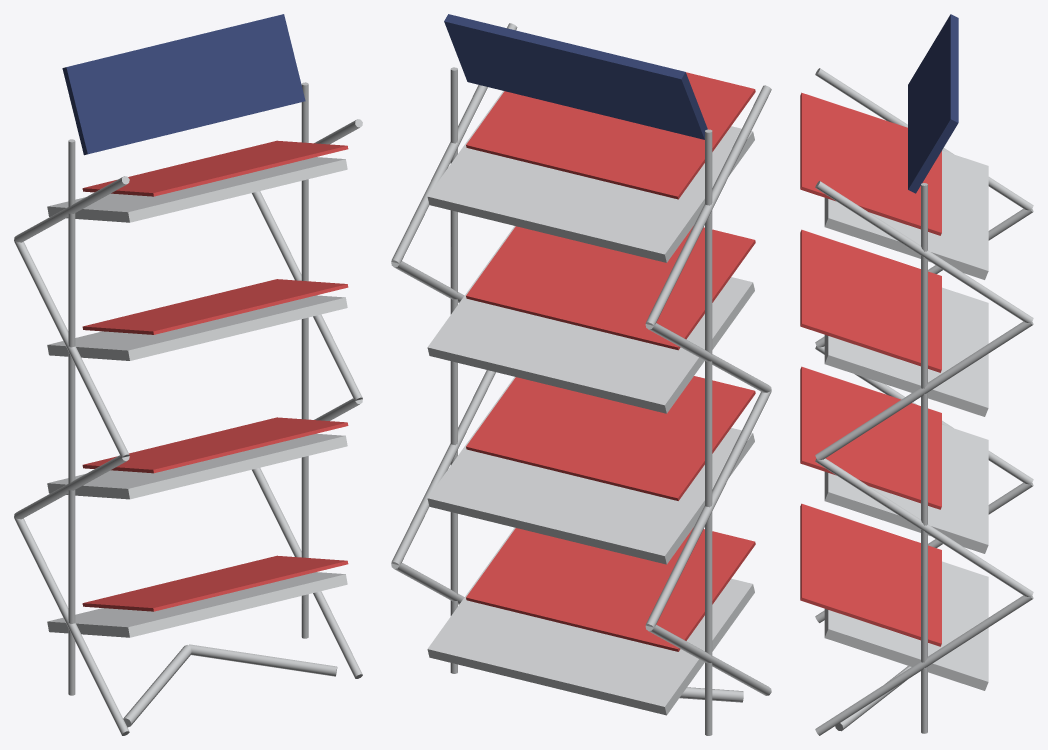
The model's file is brochure-rack-413.glb.
3 views of the same model, side by side, from view 1: azimuth 30°, elevation 25°; view 2: azimuth 150°, elevation 25°; view 3: azimuth 270°, elevation 25° (orthographic). The views are drawn at different scales.
Parts seen in each view (by area): view 1: header_sign, pocket_1, pocket_3, pocket_4, pocket_2, brochure_3, brochure_1, brochure_4, brochure_2, rail_0, rail_1, lattice_0_0 (+7 smaller); view 2: brochure_2, brochure_3, brochure_1, pocket_1, pocket_3, pocket_2, pocket_4, brochure_4, header_sign, rail_0, rail_1, lattice_0_3 (+8 smaller); view 3: brochure_1, brochure_3, brochure_2, brochure_4, pocket_1, pocket_3, pocket_4, pocket_2, header_sign, rail_1, lattice_1_3, lattice_1_0 (+7 smaller).
Part boxes in pixels (bbox=[...]): header_sign: bbox=[62, 14, 305, 155]; pocket_1: bbox=[47, 572, 347, 637]; pocket_3: bbox=[47, 295, 347, 360]; pocket_4: bbox=[47, 157, 347, 222]; pocket_2: bbox=[47, 433, 347, 499]; brochure_3: bbox=[82, 279, 348, 334]; brochure_1: bbox=[82, 555, 348, 611]; brochure_4: bbox=[82, 140, 348, 196]; brochure_2: bbox=[82, 417, 348, 473]; rail_0: bbox=[68, 139, 75, 695]; rail_1: bbox=[301, 82, 308, 638]; lattice_0_0: bbox=[14, 517, 129, 735]; brochure_2: bbox=[466, 376, 755, 500]; brochure_3: bbox=[466, 226, 755, 350]; brochure_1: bbox=[466, 527, 755, 651]; pocket_1: bbox=[427, 527, 754, 715]; pocket_3: bbox=[427, 226, 754, 413]; pocket_2: bbox=[427, 377, 754, 564]; pocket_4: bbox=[427, 91, 754, 262]; brochure_4: bbox=[466, 72, 755, 199]; header_sign: bbox=[444, 14, 707, 139]; rail_0: bbox=[705, 129, 712, 735]; rail_1: bbox=[450, 67, 457, 673]; lattice_0_3: bbox=[645, 85, 771, 325]; brochure_1: bbox=[800, 503, 941, 646]; brochure_3: bbox=[800, 229, 941, 372]; brochure_2: bbox=[800, 366, 941, 509]; brochure_4: bbox=[800, 92, 941, 235]; pocket_1: bbox=[824, 561, 988, 690]; pocket_3: bbox=[824, 287, 988, 416]; pocket_4: bbox=[824, 150, 988, 279]; pocket_2: bbox=[824, 424, 988, 553]; header_sign: bbox=[908, 14, 958, 193]; rail_1: bbox=[921, 183, 927, 733]; lattice_1_3: bbox=[815, 181, 1033, 323]; lattice_1_0: bbox=[815, 595, 1033, 735].
Bounding box in the file's own units: 0.31 × 0.7621 × 0.2625.
